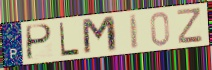0: (149, 11, 171, 48)
I: (128, 13, 140, 51)
L: (59, 21, 81, 58)
M: (80, 15, 119, 57)
P: (25, 23, 54, 62)
Z: (176, 6, 204, 44)
